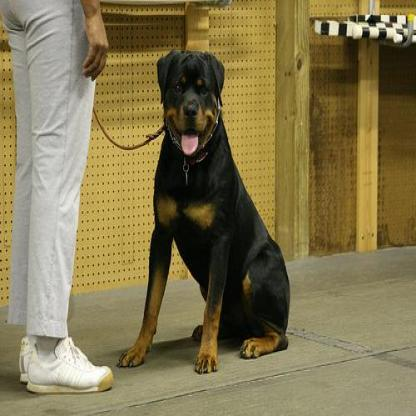Rottweiler: (115, 47, 289, 375)
